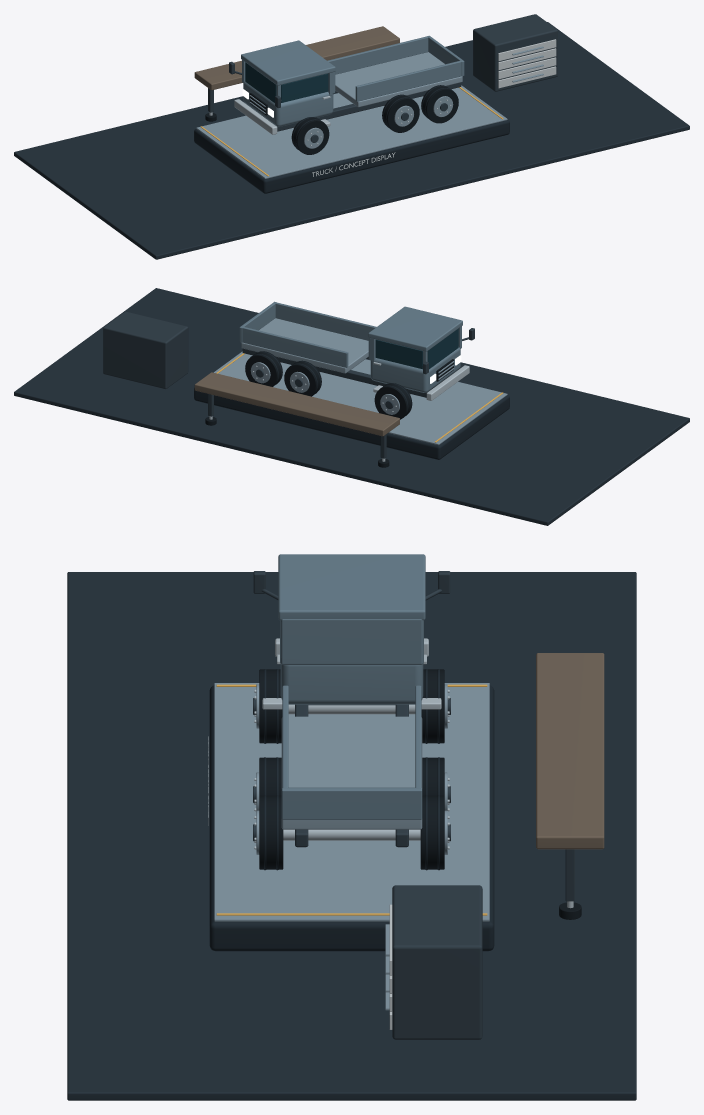
The model's file is assembly-display.glb.
3 views of the same model, one above another, from view 1: azimuth 30°, elevation 25°; view 2: azimuth 150°, elevation 25°; view 3: azimuth 270°, elevation 25° (orthographic). The views are drawn at different scales.
Parts seen in each view (by area): view 1: assembly_display_Epoxy_Floor, assembly_display_Brushed_Aluminium, assembly_display_Cab_Enamel, assembly_display_Cast_Base, assembly_display_Enamel_Graphite, assembly_display_Rubber_Seal, assembly_display_Pallet_Composite, assembly_display_Enamel_Pearl, assembly_display_Display_Glass, assembly_display_Machined_Steel; view 2: assembly_display_Epoxy_Floor, assembly_display_Brushed_Aluminium, assembly_display_Cab_Enamel, assembly_display_Enamel_Graphite, assembly_display_Pallet_Composite, assembly_display_Cast_Base, assembly_display_Rubber_Seal, assembly_display_Display_Glass, assembly_display_Machined_Steel; view 3: assembly_display_Epoxy_Floor, assembly_display_Brushed_Aluminium, assembly_display_Cab_Enamel, assembly_display_Enamel_Graphite, assembly_display_Pallet_Composite, assembly_display_Cast_Base, assembly_display_Rubber_Seal, assembly_display_Machined_Steel.
Boxes of the visible parts, <box> form: assembly_display_Epoxy_Floor: <box>14,22,689,259</box>; assembly_display_Brushed_Aluminium: <box>196,46,543,178</box>; assembly_display_Cab_Enamel: <box>241,35,464,126</box>; assembly_display_Cast_Base: <box>194,85,509,193</box>; assembly_display_Enamel_Graphite: <box>208,14,557,142</box>; assembly_display_Rubber_Seal: <box>205,85,458,154</box>; assembly_display_Pallet_Composite: <box>194,26,399,90</box>; assembly_display_Enamel_Pearl: <box>498,39,556,88</box>; assembly_display_Display_Glass: <box>245,62,328,102</box>; assembly_display_Machined_Steel: <box>209,96,451,146</box>; assembly_display_Epoxy_Floor: <box>14,288,689,525</box>; assembly_display_Brushed_Aluminium: <box>214,318,507,445</box>; assembly_display_Cab_Enamel: <box>239,301,462,392</box>; assembly_display_Enamel_Graphite: <box>103,311,474,458</box>; assembly_display_Pallet_Composite: <box>194,372,399,436</box>; assembly_display_Cast_Base: <box>194,351,509,459</box>; assembly_display_Rubber_Seal: <box>205,351,453,467</box>; assembly_display_Display_Glass: <box>375,328,458,369</box>; assembly_display_Machined_Steel: <box>209,362,469,461</box>; assembly_display_Epoxy_Floor: <box>67,572,636,1100</box>; assembly_display_Brushed_Aluminium: <box>214,683,489,1010</box>; assembly_display_Cab_Enamel: <box>278,554,425,819</box>; assembly_display_Enamel_Graphite: <box>253,571,574,1039</box>; assembly_display_Pallet_Composite: <box>536,653,604,849</box>; assembly_display_Cast_Base: <box>209,669,494,951</box>; assembly_display_Rubber_Seal: <box>259,669,581,919</box>; assembly_display_Machined_Steel: <box>254,638,573,908</box>.
Size of the model in its own units: 13 by 2.28 by 6.
